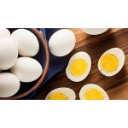begg: (98, 46, 125, 76), (69, 52, 90, 80), (1, 36, 17, 68), (81, 85, 108, 100), (1, 74, 18, 96)
